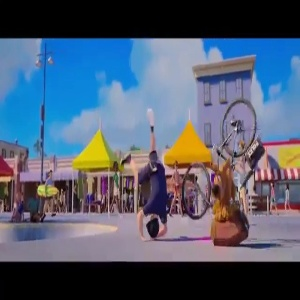Scooby: (207, 162, 234, 205)
